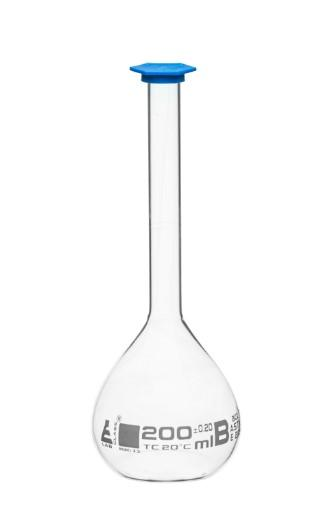Volumetric flask: (80, 62, 254, 479)
